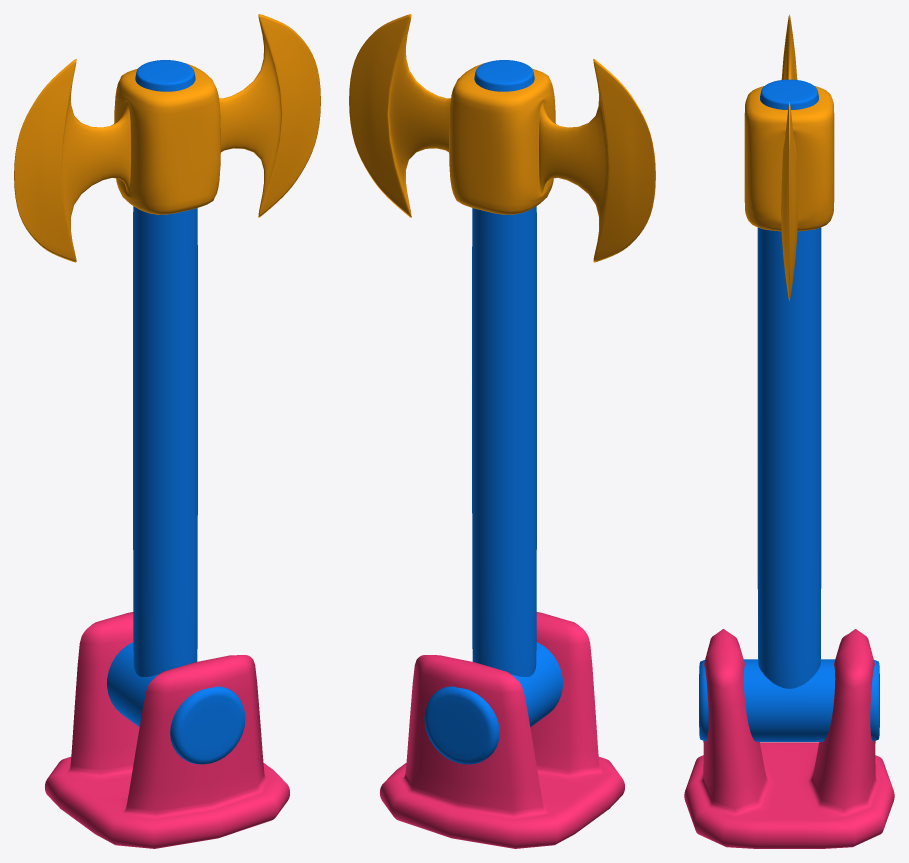
3 views of the same model, side by side, from view 1: azimuth 30°, elevation 25°; view 2: azimuth 150°, elevation 25°; view 3: azimuth 270°, elevation 25° (orthographic). The views are drawn at different scales.
Parts seen in each view (by area): view 1: Kol.004, Balta.001, Merkez.003; view 2: Kol.004, Balta.001, Merkez.003; view 3: Kol.004, Merkez.003, Balta.001.
Part boxes in pixels (left/top/right/bottom): Kol.004: left=107, top=60, right=245, bottom=764; Balta.001: left=14, top=14, right=320, bottom=262; Merkez.003: left=45, top=612, right=289, bottom=848; Kol.004: left=424, top=60, right=562, bottom=764; Balta.001: left=349, top=14, right=655, bottom=262; Merkez.003: left=380, top=612, right=624, bottom=848; Kol.004: left=699, top=79, right=879, bottom=741; Merkez.003: left=684, top=629, right=894, bottom=848; Balta.001: left=744, top=14, right=834, bottom=300.
Bounding box in the file's own units: 26.39 × 62.95 × 15.98.
